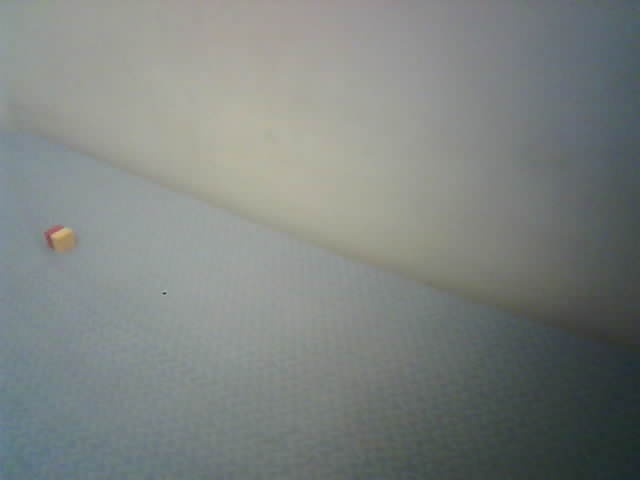lego: (44, 225, 75, 253)
